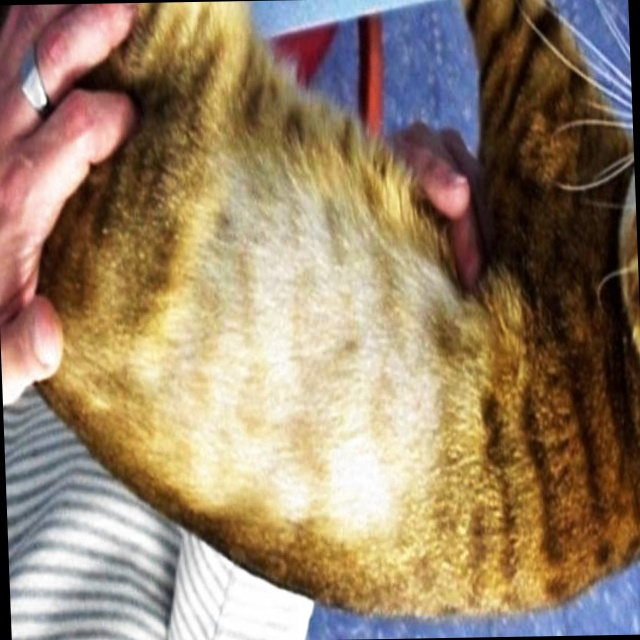hairloss: (197, 161, 460, 572)
